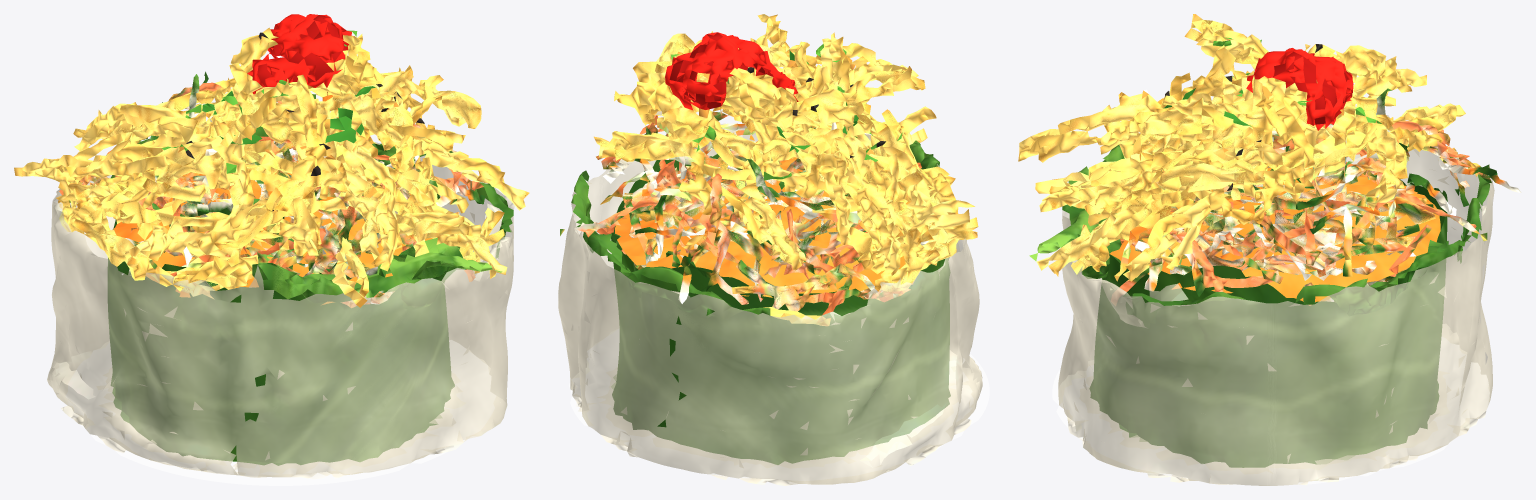
File: sunkiss.glb
3 views of the same model, side by side, from view 1: azimuth 30°, elevation 25°; view 2: azimuth 150°, elevation 25°; view 3: azimuth 270°, elevation 25° (orthographic). The views are drawn at different scales.
Visible parts, largest first — view 1: ing_ricepaper, ing_wontonCrisp, ing_lettuce, ing_carrot, ing_tobiko, ing_coriander; view 2: ing_ricepaper, ing_lettuce, ing_wontonCrisp, ing_carrot, ing_tobiko, ing_scallion; view 3: ing_ricepaper, ing_lettuce, ing_wontonCrisp, ing_carrot, ing_tobiko.
Boxes of the visible parts, left/top/right/bottom form: ing_ricepaper: left=47, top=141, right=514, bottom=485; ing_wontonCrisp: left=14, top=27, right=529, bottom=307; ing_lettuce: left=108, top=126, right=513, bottom=465; ing_carrot: left=59, top=71, right=485, bottom=307; ing_tobiko: left=247, top=14, right=351, bottom=94; ing_coriander: left=202, top=86, right=375, bottom=144; ing_ricepaper: left=558, top=123, right=989, bottom=485; ing_lettuce: left=571, top=135, right=950, bottom=464; ing_wontonCrisp: left=594, top=14, right=978, bottom=325; ing_carrot: left=560, top=108, right=928, bottom=315; ing_tobiko: left=665, top=32, right=798, bottom=110; ing_scallion: left=671, top=44, right=902, bottom=180; ing_ricepaper: left=1052, top=115, right=1494, bottom=485; ing_lettuce: left=1029, top=144, right=1489, bottom=467; ing_wontonCrisp: left=1018, top=14, right=1480, bottom=281; ing_carrot: left=1110, top=88, right=1521, bottom=305; ing_tobiko: left=1246, top=48, right=1353, bottom=130.
Bounding box in the file's own units: 0.1152 × 0.1032 × 0.1286.
2 materials, 2 textured.
